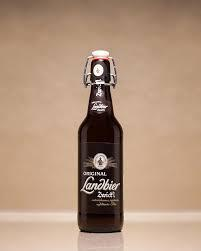Glass bottle: (67, 46, 144, 242)
